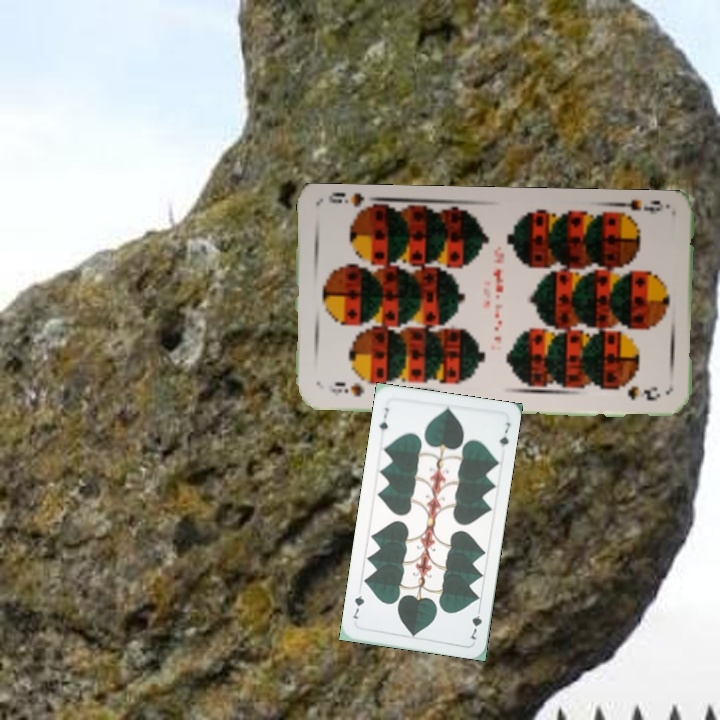G7: (465, 603, 485, 642), (375, 403, 391, 433)
S9: (611, 196, 670, 223), (327, 377, 367, 399)
